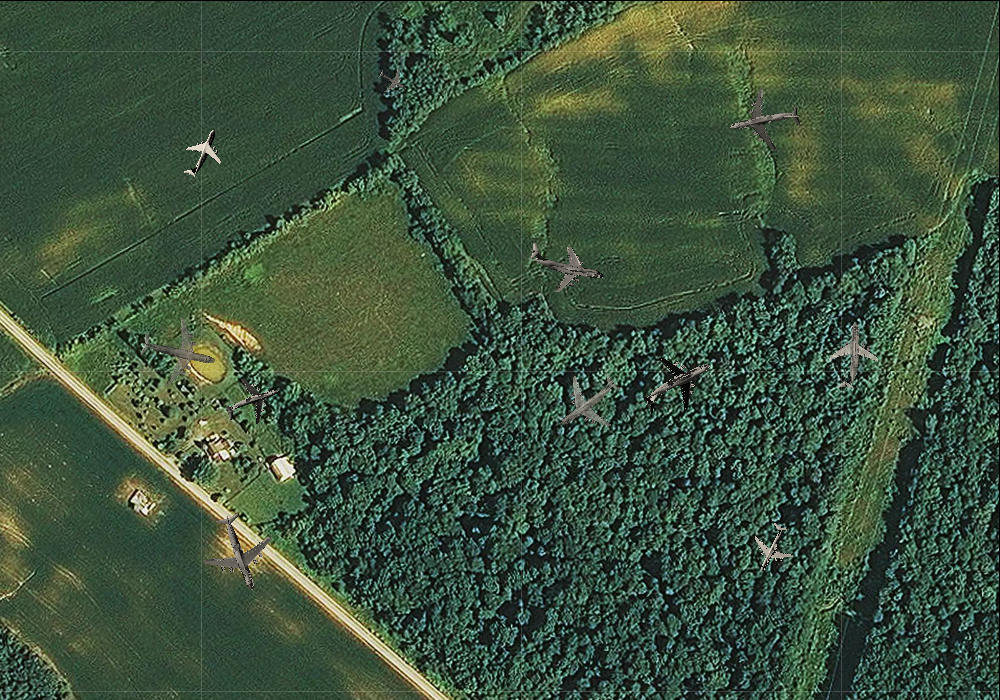plane: (190, 503, 287, 603), (628, 337, 727, 433), (540, 354, 636, 449), (132, 309, 223, 395), (522, 224, 611, 303), (723, 80, 807, 161), (216, 367, 287, 436), (820, 320, 882, 390), (739, 515, 804, 581), (170, 119, 233, 185), (372, 60, 412, 100)
